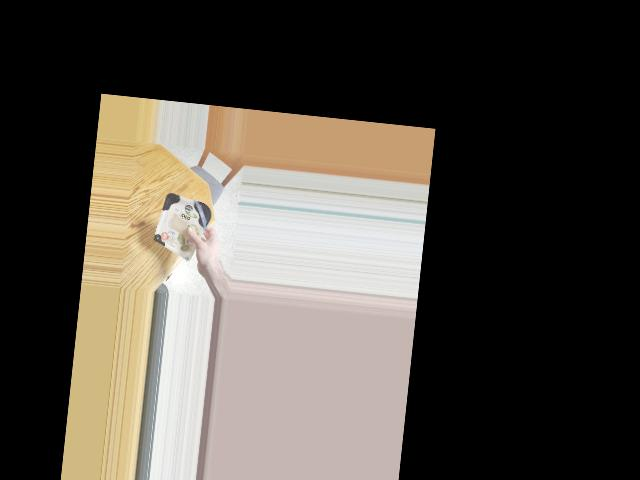cheese: (154, 193, 211, 252)
